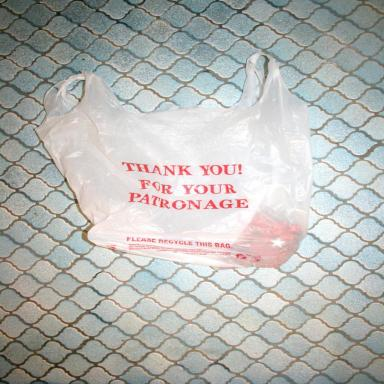plasticbag: (35, 52, 309, 268)
